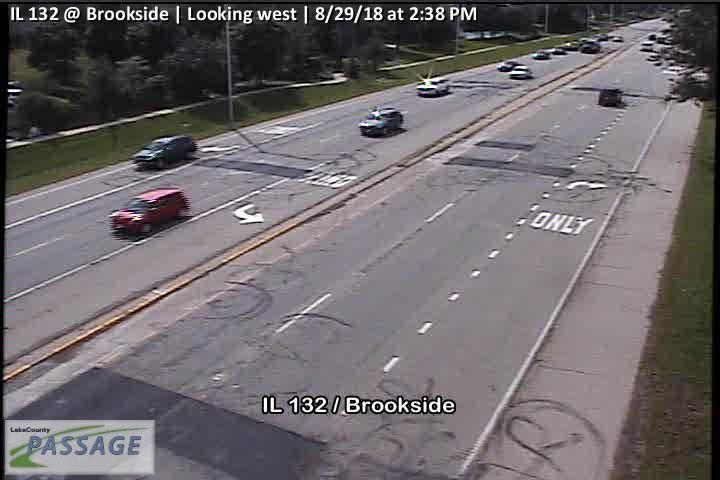Sedan: (108, 187, 187, 237), (131, 134, 196, 170), (356, 107, 404, 136), (416, 75, 449, 97), (507, 64, 531, 80)
